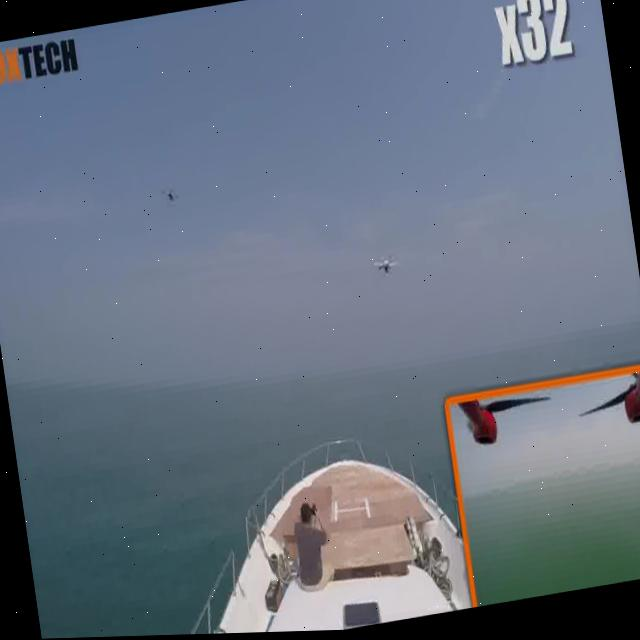drone: (364, 243, 404, 286), (154, 171, 184, 225)
